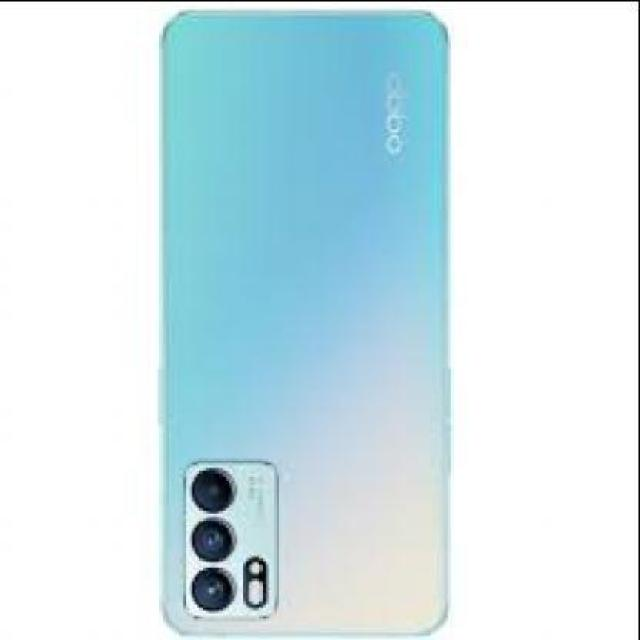mobile: (162, 6, 452, 637)
